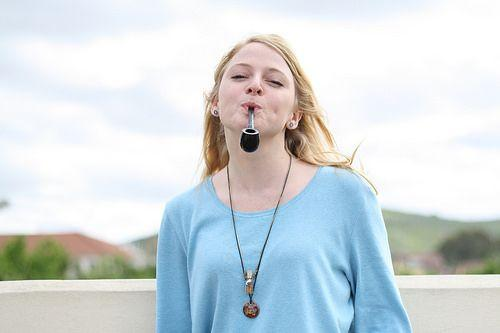trubka: (240, 107, 259, 152)
